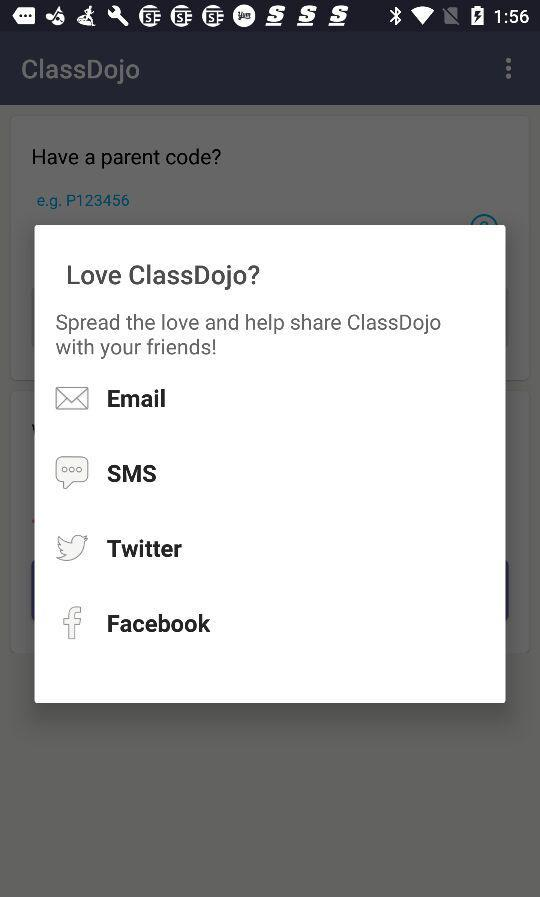Icon: (56, 456, 89, 490), (57, 535, 89, 562), (56, 387, 89, 410), (64, 606, 82, 639), (505, 58, 512, 81)
Modal: (36, 226, 505, 703)
Text: (57, 313, 441, 360), (68, 265, 260, 290), (33, 149, 221, 171), (22, 59, 141, 86), (108, 614, 211, 633), (38, 195, 130, 210), (107, 540, 183, 558), (108, 389, 166, 408), (108, 465, 157, 483)
UpperTaskBar: (1, 1, 540, 33)
